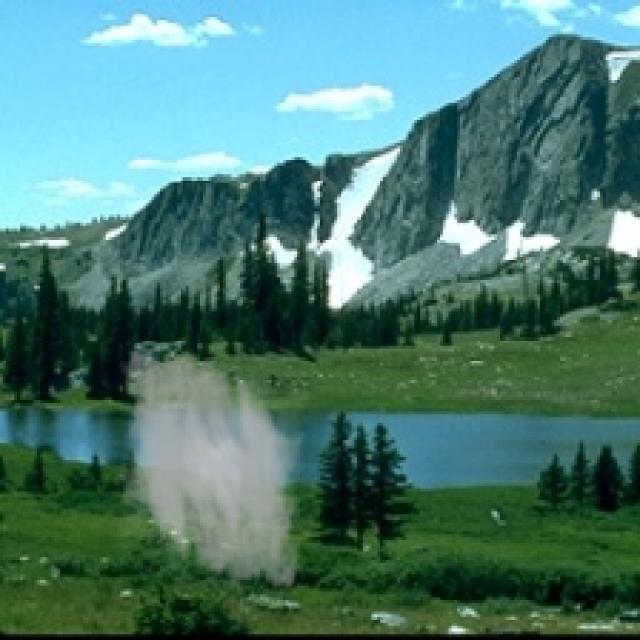smoke: (106, 337, 314, 600)
